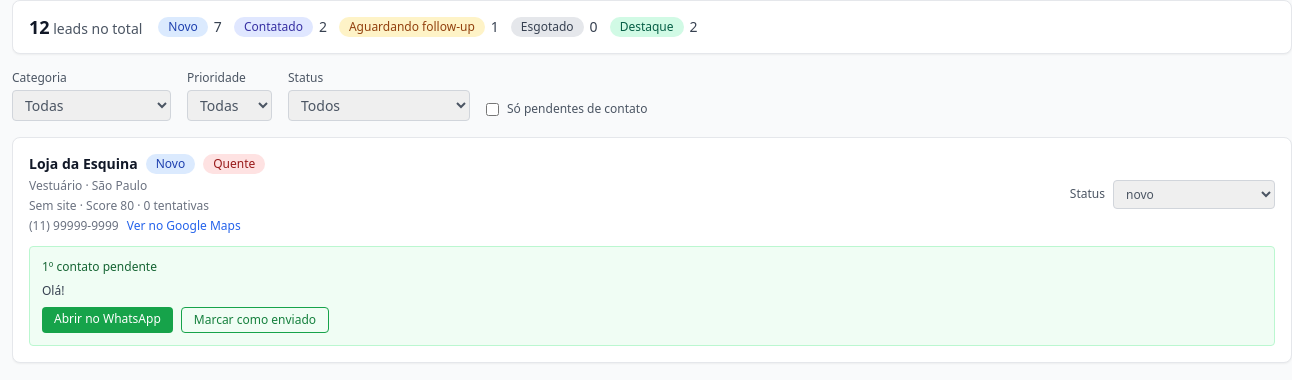
Test: LeadsList › registra o envio manual e atualiza o card
Expected: the heading "Loja da Esquina" is shown, [29,154,138,174]
Click the button "Marcar como enviado" at (255, 320), box [181,307,329,333]
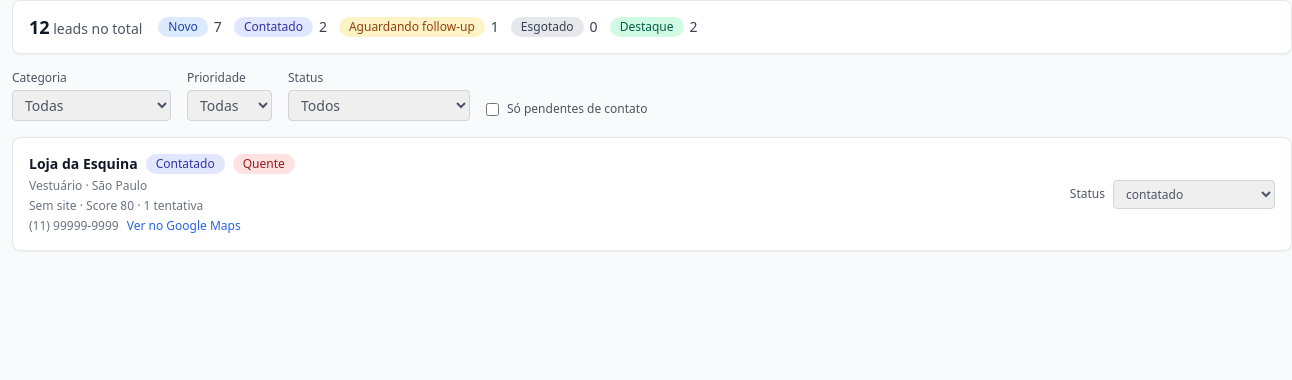
Expected: the button "Marcar como enviado" is gone
Expected: the text "Sem site · Score 80 · 1 tentativa" is shown, [29,197,203,214]
